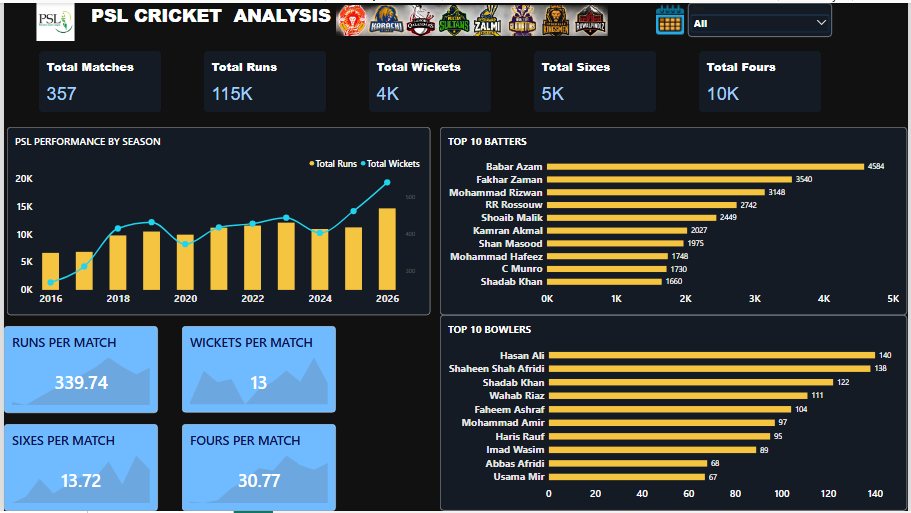

The dashboard page shown, as its layout file describes it:
{"tool":"powerbi","page":{"name":"Executive Overview","canvas":[1920,1080],"ordinal":1},"visuals":[{"type":"textbox","box":[10,0,280,280],"z":0},{"type":"textbox","box":[10,580,280,280],"z":1000},{"type":"textbox","box":[185,0,520.9,102],"z":3000},{"type":"cardVisual","fields":{"Data":["PSL_ball_by_ball_merged.Total Matches"]},"box":[74.4,102,260,130],"z":4000},{"type":"cardVisual","fields":{"Data":["PSL_ball_by_ball_merged.Total Wickets"]},"box":[776,102,260,130],"z":5000},{"type":"cardVisual","fields":{"Data":["PSL_ball_by_ball_merged.Total Fours"]},"box":[1477.6,102,260,130],"z":6000},{"type":"cardVisual","fields":{"Data":["PSL_ball_by_ball_merged.Total Sixes"]},"box":[1126.8,102,260,130],"z":7000},{"type":"cardVisual","fields":{"Data":["PSL_ball_by_ball_merged.Total Runs"]},"box":[425.2,102,260,130],"z":8000},{"type":"slicer","fields":{"Values":["PSL_match_info.date.Variation.Date Hierarchy.Year"]},"box":[1454.2,0,306.1,72.3],"z":8001},{"type":"image","box":[1386.1,0,59.5,70.2],"z":8002},{"type":"image","box":[0,0,74.4,72.3],"z":8003},{"type":"lineClusteredColumnComboChart","title":"PSL PERFORMANCE BY SEASON","fields":{"Category":["PSL_match_info.date.Variation.Date Hierarchy.Year"],"Y":["PSL_ball_by_ball_merged.Total Runs"],"Y2":["PSL_ball_by_ball_merged.Total Wickets"]},"box":[6.4,263.6,900,400],"z":8004},{"type":"clusteredBarChart","title":"TOP 10 BATTERS","fields":{"Category":["PSL_players.player"],"Y":["PSL_ball_by_ball_merged.Total Runs"]},"box":[927.9,262.8,993,400],"z":8005},{"type":"clusteredBarChart","title":"TOP 10 BOWLERS","fields":{"Category":["PSL_ball_by_ball_merged.bowler"],"Y":["PSL_ball_by_ball_merged.Bowler wicket"]},"box":[927.9,662.8,993,416.3],"z":8006},{"type":"kpi","title":"RUNS PER MATCH","fields":{"Indicator":["PSL_ball_by_ball_merged.Average runs"],"TrendLine":["PSL_match_info.date.Variation.Date Hierarchy.Year"]},"box":[0,686.7,327.4,185],"z":8007},{"type":"kpi","title":"WICKETS PER MATCH","fields":{"Indicator":["PSL_ball_by_ball_merged.Wickets per match"],"TrendLine":["PSL_match_info.date.Variation.Date Hierarchy.Year"]},"box":[378.4,686.7,327,184],"z":8008},{"type":"image","box":[705.8,4.3,578.3,65.9],"z":8009},{"type":"kpi","title":"SIXES PER MATCH","fields":{"Indicator":["PSL_ball_by_ball_merged.Sixes per match"],"TrendLine":["PSL_match_info.date.Variation.Date Hierarchy.Year"]},"box":[0,895,327.4,185],"z":8010},{"type":"kpi","title":"FOURS PER MATCH","fields":{"Indicator":["PSL_ball_by_ball_merged.Fours per match"],"TrendLine":["PSL_match_info.date.Variation.Date Hierarchy.Year"]},"box":[378.4,895,327.4,185],"z":8011}]}

Visuals, with their boxes in screenshot pixels (x1, y1, x2, y2), scaled from the page's 1920x1080 canvas onto the 911x513 screenshot:
textbox: x1=5, y1=0, x2=138, y2=133
textbox: x1=5, y1=276, x2=138, y2=408
textbox: x1=88, y1=0, x2=335, y2=48
cardVisual - PSL_ball_by_ball_merged.Total Matches: x1=35, y1=48, x2=159, y2=110
cardVisual - PSL_ball_by_ball_merged.Total Wickets: x1=368, y1=48, x2=492, y2=110
cardVisual - PSL_ball_by_ball_merged.Total Fours: x1=701, y1=48, x2=824, y2=110
cardVisual - PSL_ball_by_ball_merged.Total Sixes: x1=535, y1=48, x2=658, y2=110
cardVisual - PSL_ball_by_ball_merged.Total Runs: x1=202, y1=48, x2=325, y2=110
slicer - PSL_match_info.date.Variation.Date Hierarchy.Year: x1=690, y1=0, x2=835, y2=34
image: x1=658, y1=0, x2=686, y2=33
image: x1=0, y1=0, x2=35, y2=34
"PSL PERFORMANCE BY SEASON" lineClusteredColumnComboChart: x1=3, y1=125, x2=430, y2=315
"TOP 10 BATTERS" clusteredBarChart: x1=440, y1=125, x2=910, y2=315
"TOP 10 BOWLERS" clusteredBarChart: x1=440, y1=315, x2=910, y2=512
"RUNS PER MATCH" kpi: x1=0, y1=326, x2=155, y2=414
"WICKETS PER MATCH" kpi: x1=180, y1=326, x2=335, y2=414
image: x1=335, y1=2, x2=609, y2=33
"SIXES PER MATCH" kpi: x1=0, y1=425, x2=155, y2=512
"FOURS PER MATCH" kpi: x1=180, y1=425, x2=335, y2=512
